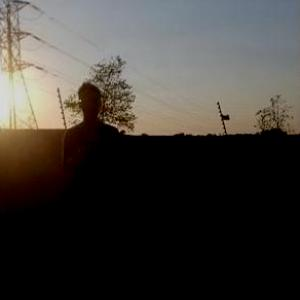follow: (60, 77, 130, 294)
